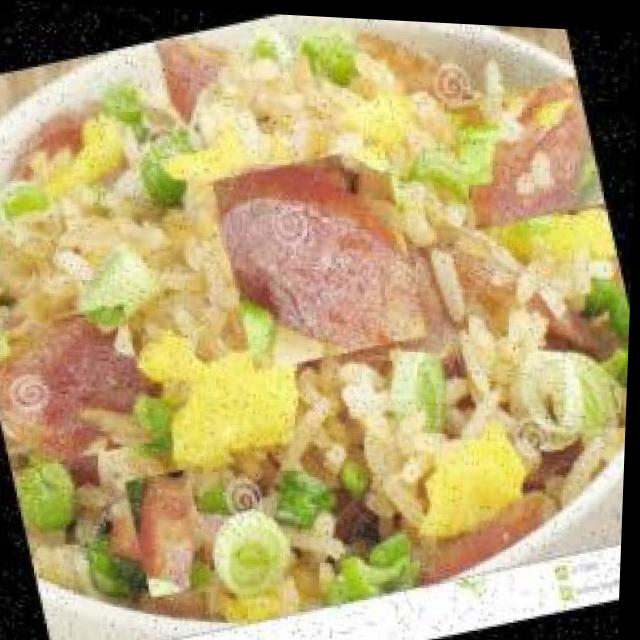chinese_sausage: (208, 132, 437, 376), (0, 295, 159, 480), (444, 63, 612, 233), (116, 473, 232, 591)
